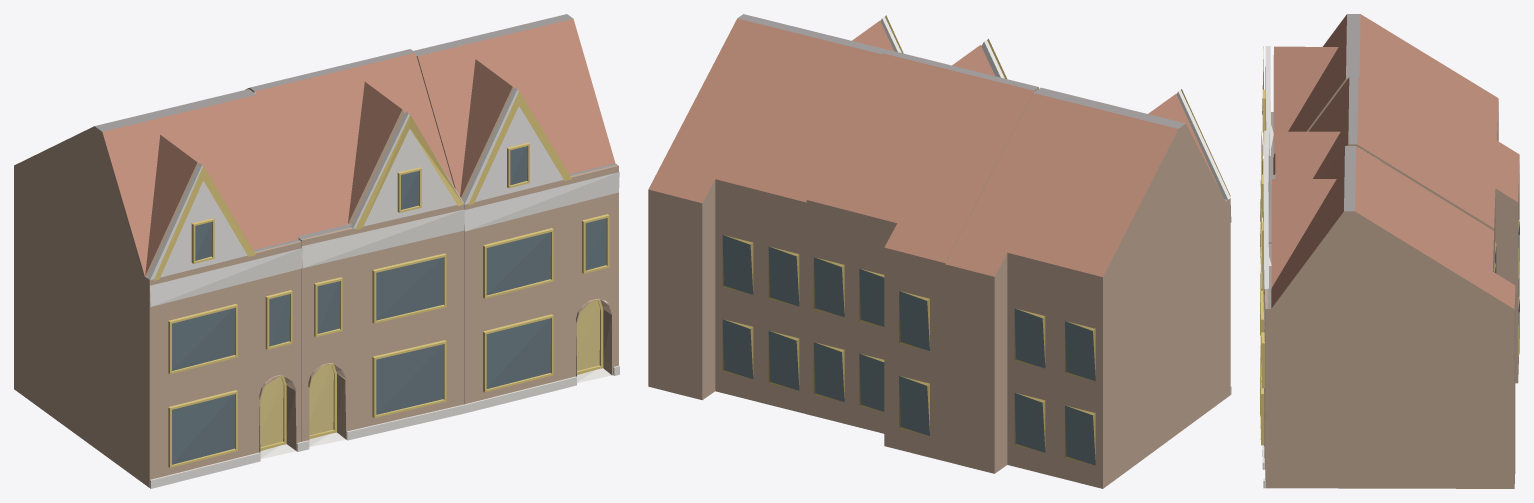
Rendered from chunk-face-zaanhof-99-104.lod2.glb.
3 views of the same model, side by side, from view 1: azimuth 30°, elevation 25°; view 2: azimuth 150°, elevation 25°; view 3: azimuth 270°, elevation 25° (orthographic). The views are drawn at different scales.
Visible parts, largest first — view 1: lod2; view 2: lod2; view 3: lod2.
Part boxes in pixels (x1,y1,x2,y2): lod2: (14,14,619,488); lod2: (648,14,1231,488); lod2: (1260,14,1519,488).
Size of the model in its own units: 17.59 by 11.54 by 9.75.
